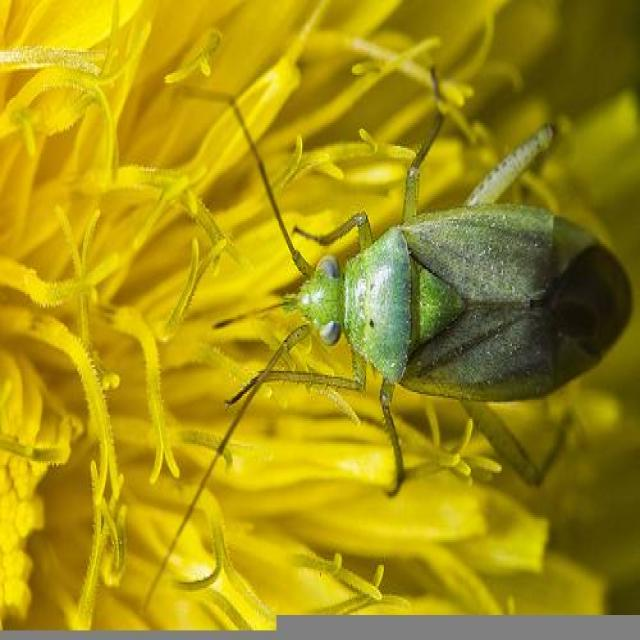Miridae-Adult-: (155, 58, 638, 520)
